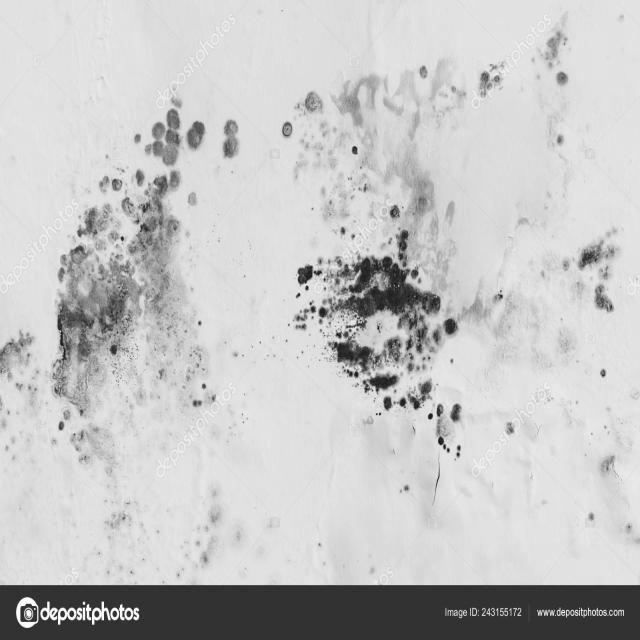stain marks: (278, 18, 640, 565), (0, 90, 240, 584)
